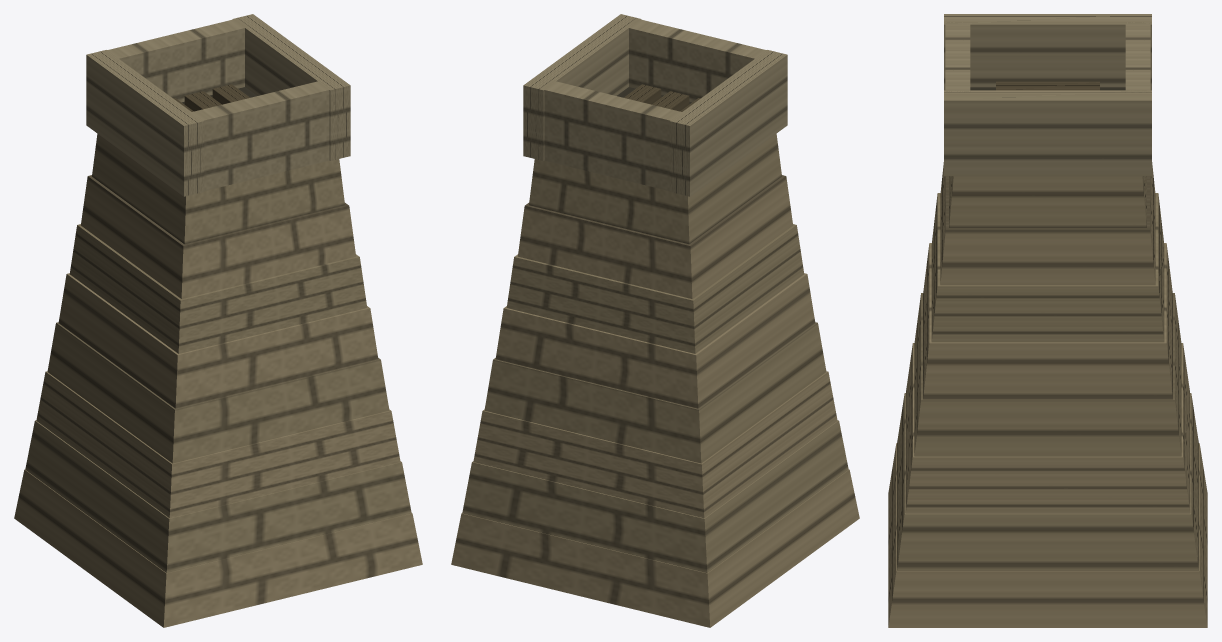
File: beacon-han-lod0.glb
The picture shows the model from 3 angles, left to right: view 1: azimuth 30°, elevation 25°; view 2: azimuth 150°, elevation 25°; view 3: azimuth 270°, elevation 25°; orthographic projection. The views are drawn at different scales.
Size of the model in its own units: 0.23 by 0.4 by 0.23.
Materials: 1 (1 with a texture image).
